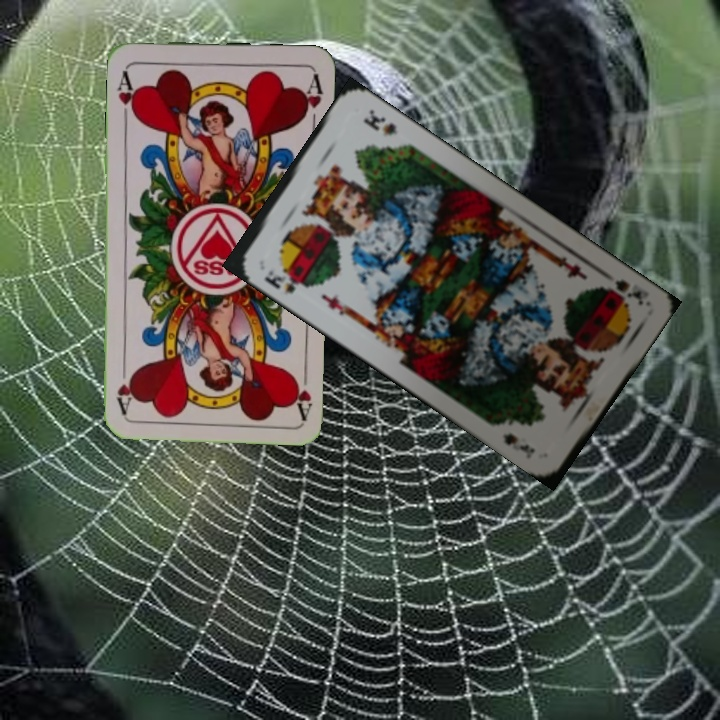HA: (113, 65, 140, 124), (290, 360, 315, 419)
SK: (597, 275, 646, 308), (260, 266, 309, 297)
